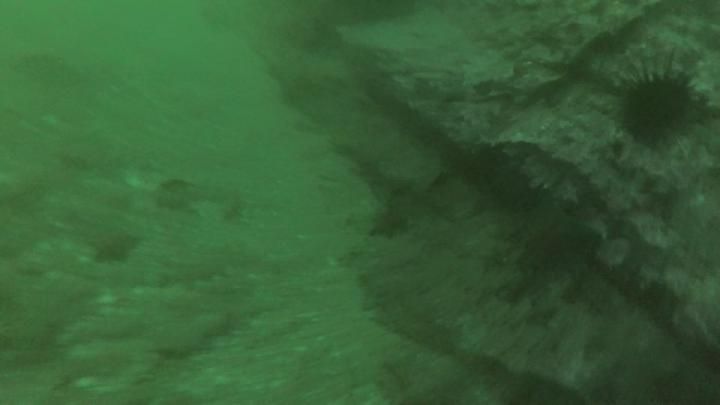echinus: (625, 76, 692, 142)
starfish: (514, 198, 598, 280), (94, 229, 136, 264), (371, 207, 401, 240)
